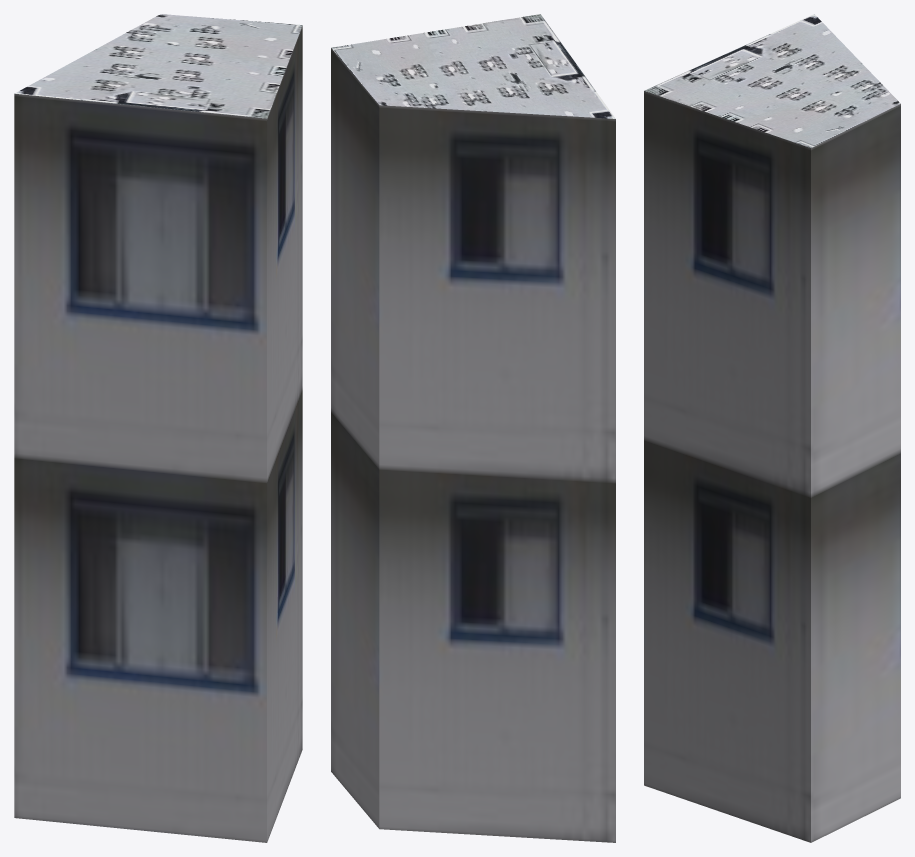
The model's file is ResTex__2158.fbx.
The picture shows the model from 3 angles, left to right: view 1: azimuth 30°, elevation 25°; view 2: azimuth 150°, elevation 25°; view 3: azimuth 270°, elevation 25°; orthographic projection. The views are drawn at different scales.
Parts seen in each view (by area): view 1: CityEngineMaterial_9_m, CityEngineMaterial_m; view 2: CityEngineMaterial_9_m, CityEngineMaterial_m; view 3: CityEngineMaterial_9_m, CityEngineMaterial_m.
Boxes of the visible parts, box(x1,y1,x2,y2) form: CityEngineMaterial_9_m: box(14, 26, 302, 842); CityEngineMaterial_m: box(15, 14, 302, 118); CityEngineMaterial_9_m: box(331, 48, 615, 842); CityEngineMaterial_m: box(331, 14, 615, 118); CityEngineMaterial_9_m: box(644, 91, 900, 842); CityEngineMaterial_m: box(644, 14, 900, 147).
Size of the model in its own units: 2.49 by 6 by 2.01.
Materials: 2 (2 with a texture image).
